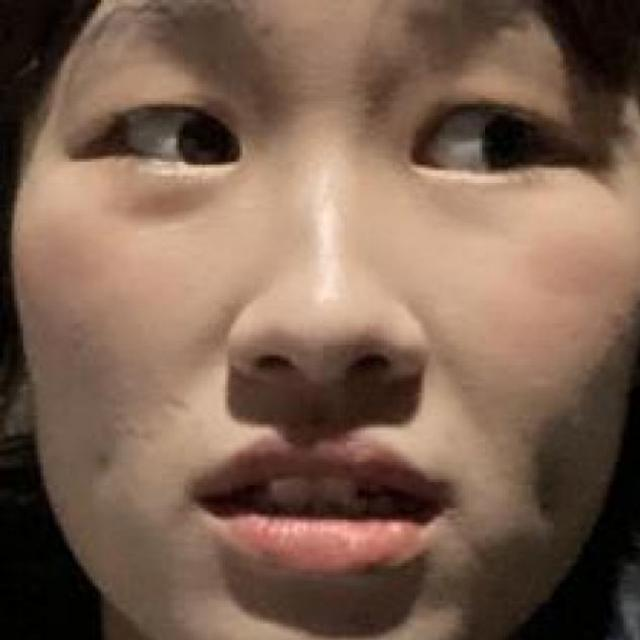Disgust: (75, 4, 596, 640)
